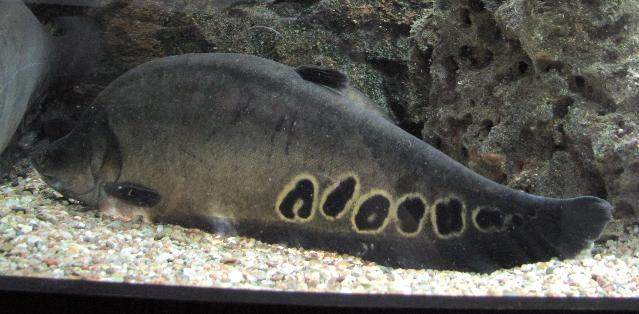Mulut: (24, 144, 68, 194)
Sirip Dada: (100, 175, 164, 211)
Sirip Punggung: (292, 57, 356, 99)
